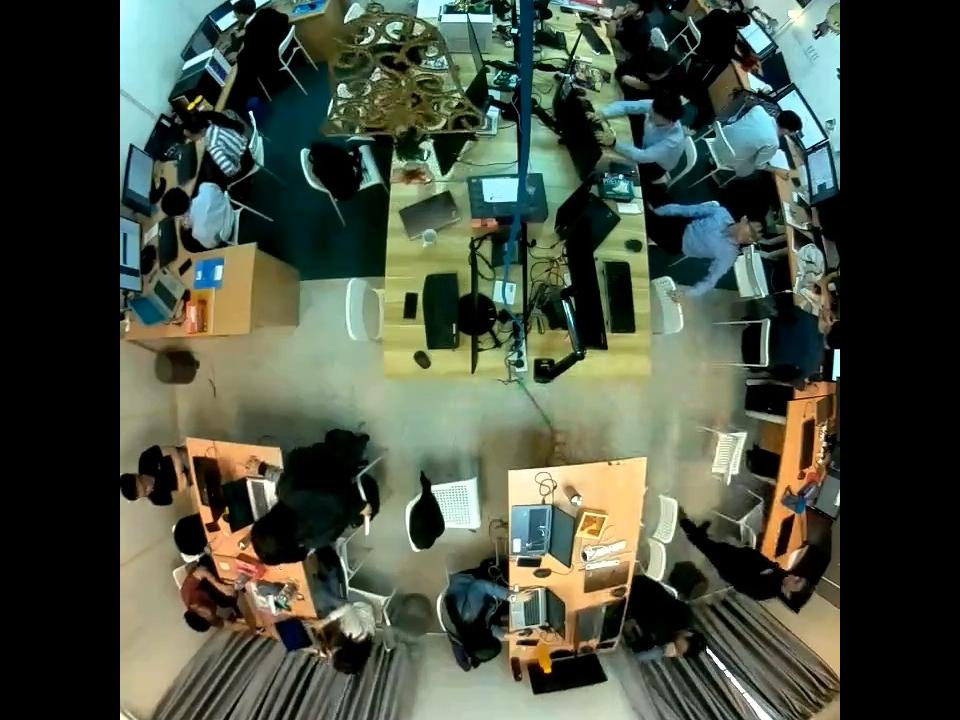name-tag: (759, 565, 774, 576)
